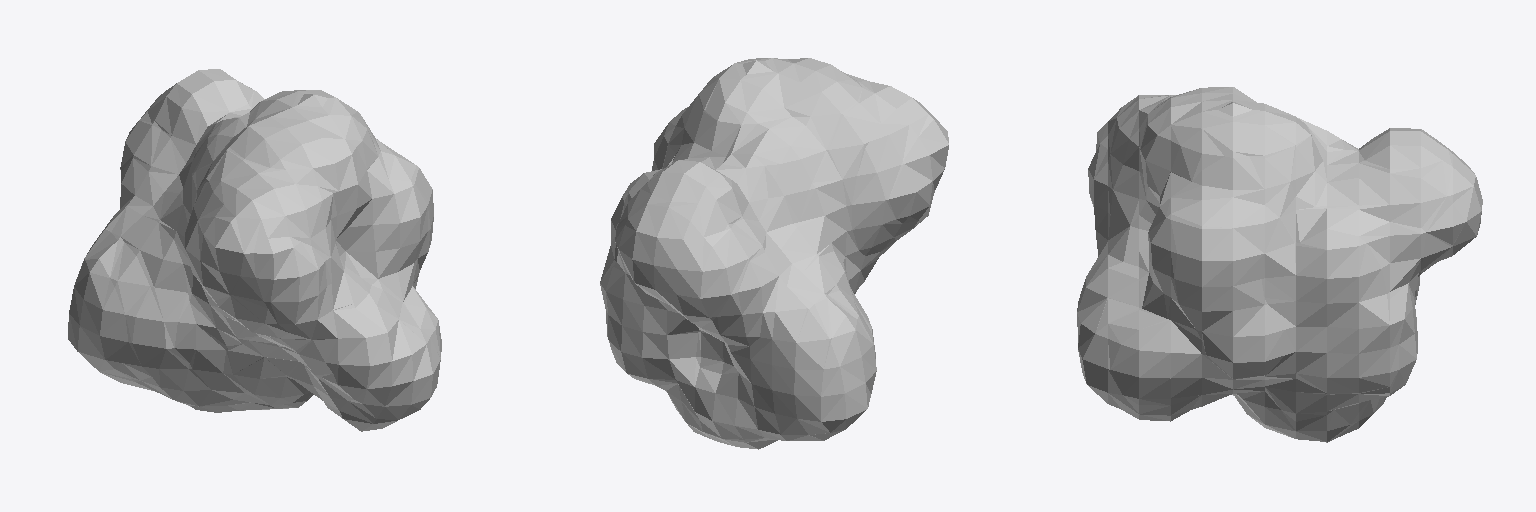
The model's file is 2hek_cms.obj.
3 views of the same model, side by side, from view 1: azimuth 30°, elevation 25°; view 2: azimuth 150°, elevation 25°; view 3: azimuth 270°, elevation 25° (orthographic).
Bounding box in the file's own units: 74.19 × 86.6 × 93.72.